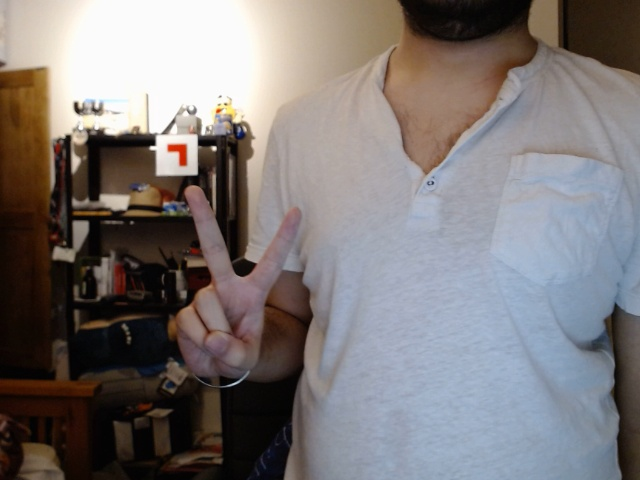Peace: (158, 180, 325, 406)
